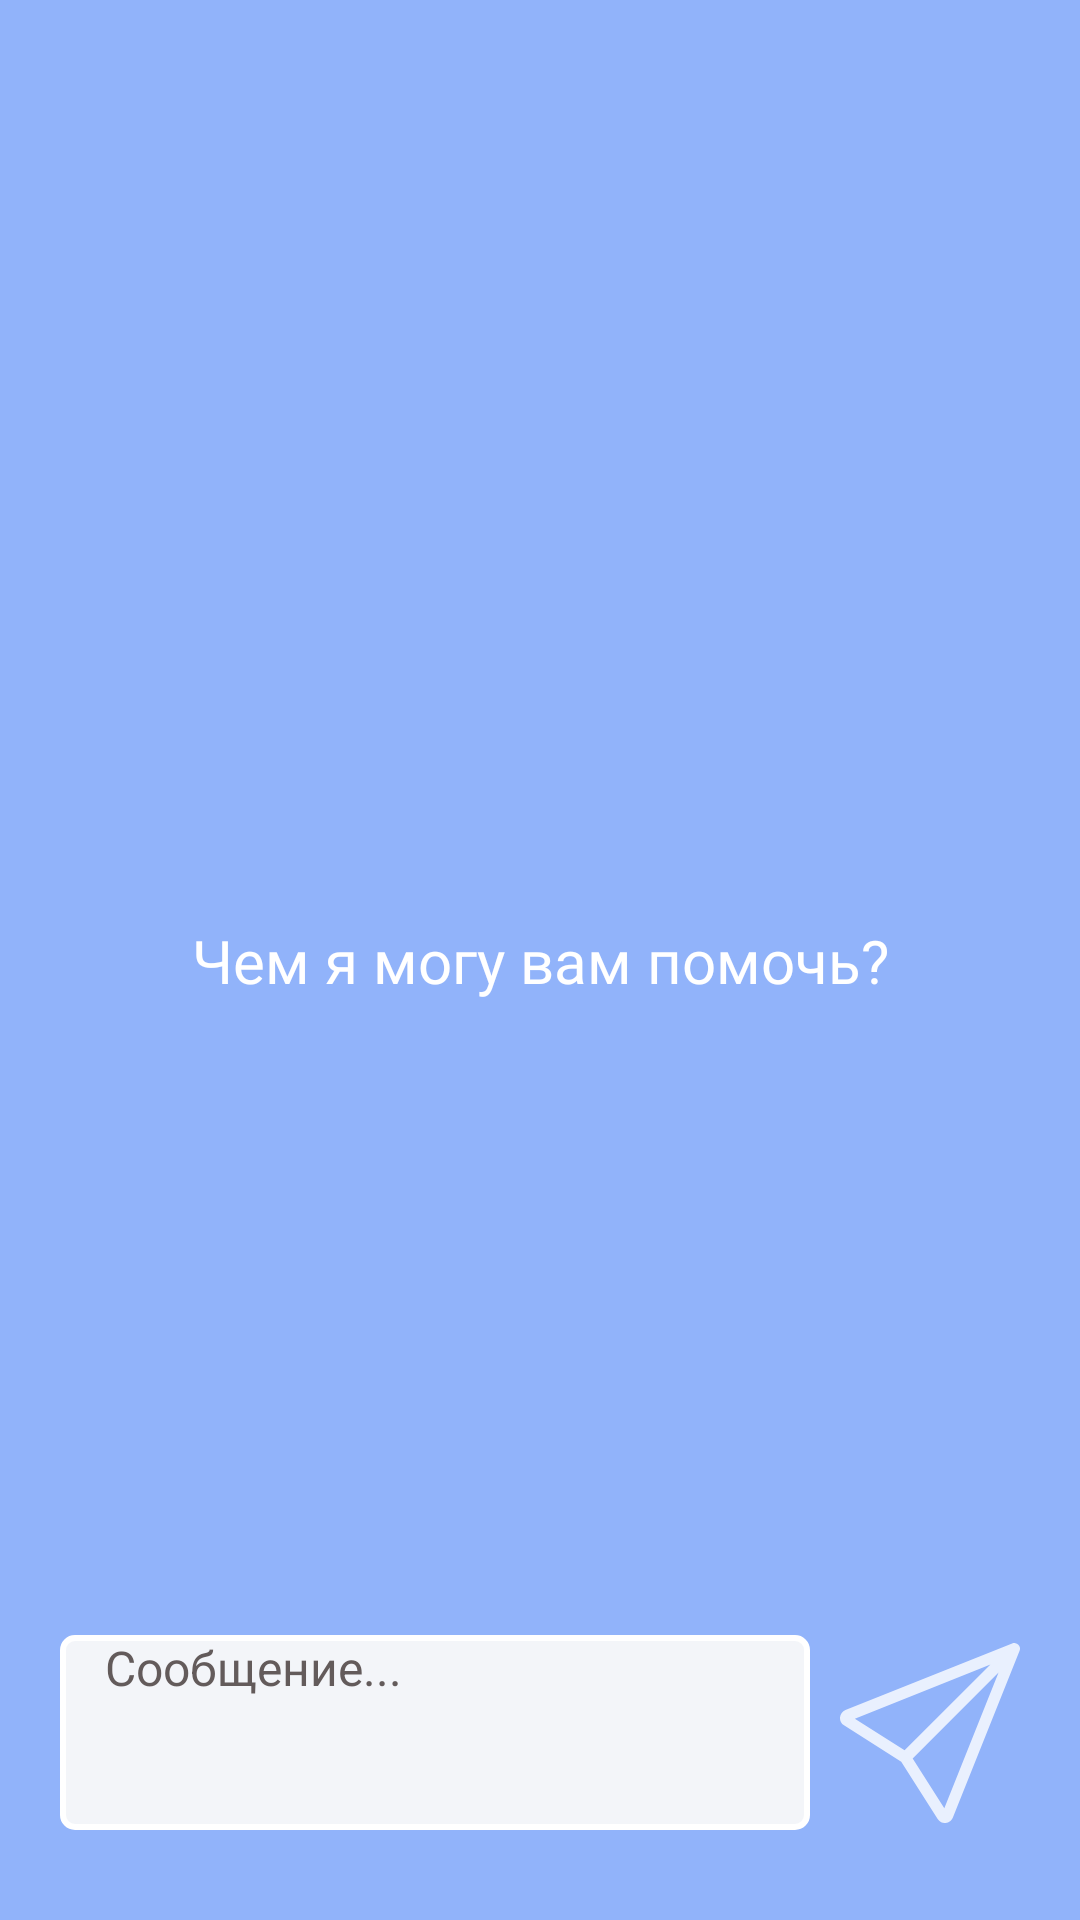

Icon click points for this 1080×1920 phone screenshot, format point (x, y):
send: point (930, 1733)
